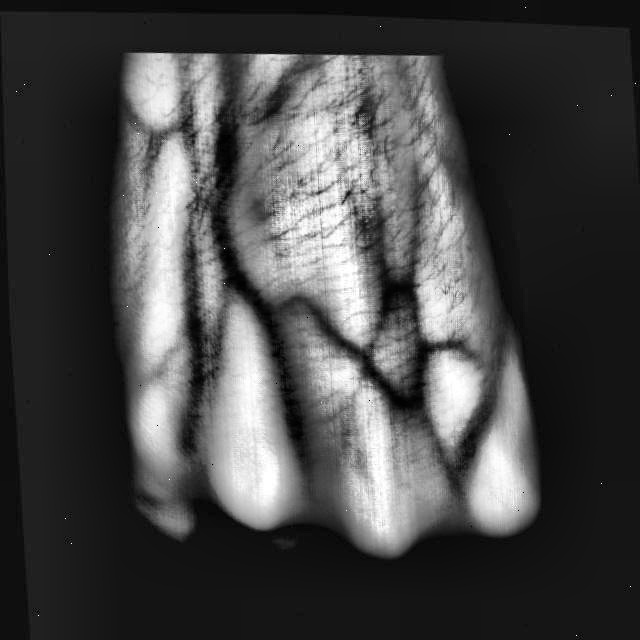Vein: (214, 101, 246, 264), (181, 170, 206, 330)
